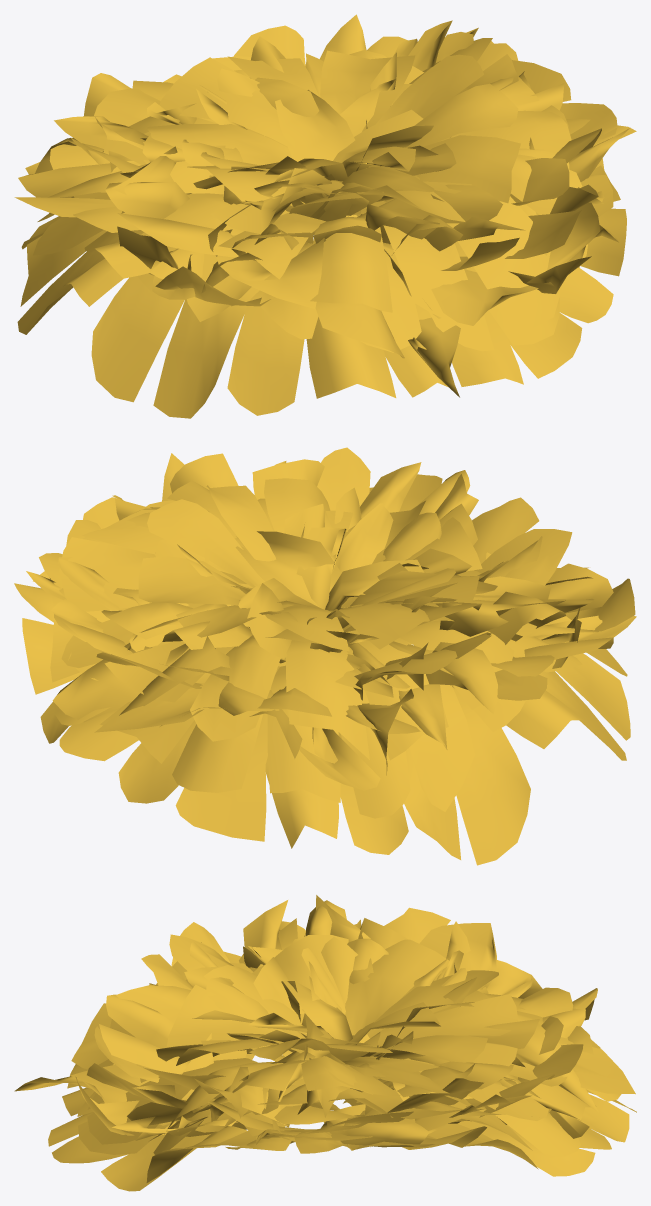
The model's file is haired_teapot.gltf.
3 renders of one model, top to bottom at view 1: azimuth 30°, elevation 25°; view 2: azimuth 150°, elevation 25°; view 3: azimuth 270°, elevation 25°, orthographic. The views are drawn at different scales.
Parts seen in each view (by area): view 1: 平面.002; view 2: 平面.002; view 3: 平面.002.
Part boxes in pixels (x1=…): 平面.002: x1=14, y1=14, x2=636, y2=418; 平面.002: x1=14, y1=447, x2=636, y2=865; 平面.002: x1=14, y1=895, x2=636, y2=1191.
Size of the model in its own units: 4.26 by 1.7 by 4.85.
